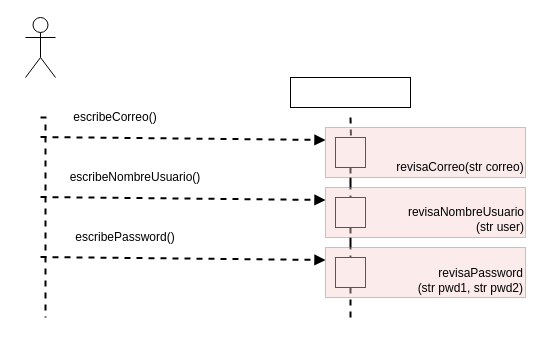
Some shapes in this 543 by 337 pixel diagram are drawn without their labels. Here are the shapes that lost their labels. From the top down, the centre of each, then its label:
At [40,47]: "Visitante".
At [350,92]: "Registro".
